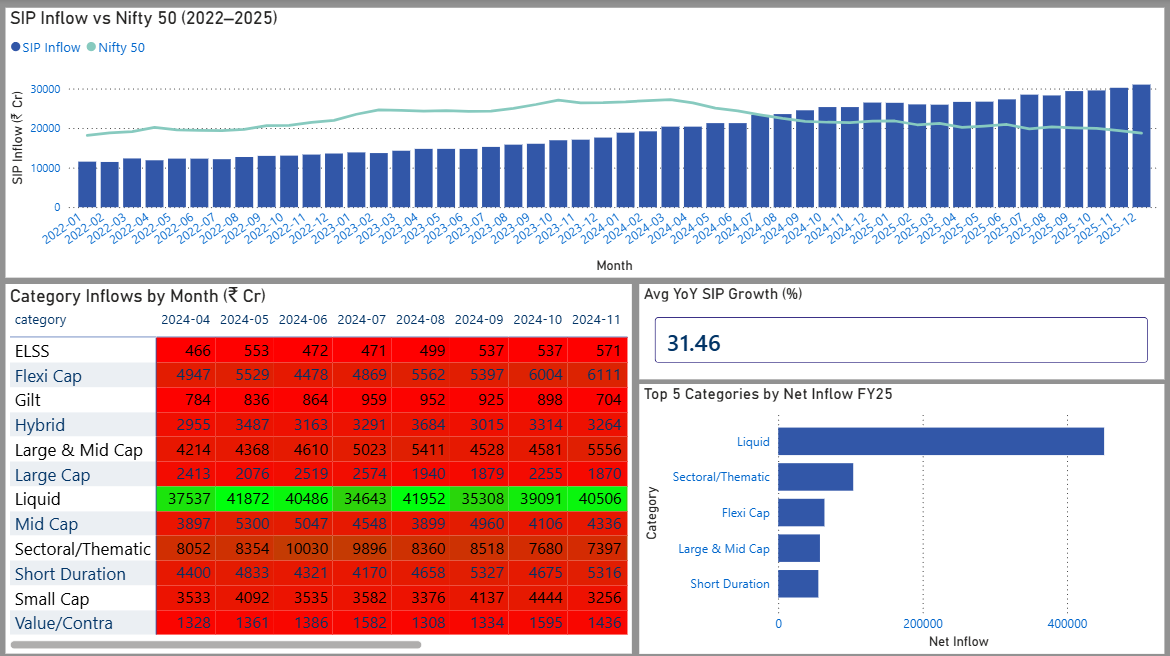

The page's visual inventory and layout, read from the dashboard file:
{"tool":"powerbi","page":{"name":"SIP & Market Trends","canvas":[1280,720],"ordinal":3},"visuals":[{"type":"lineStackedColumnComboChart","title":"SIP Inflow vs Nifty 50 (2022–2025)","fields":{"Y":["Sum(04_monthly_sip_inflows.sip_inflow_crore)"],"Category":["04_monthly_sip_inflows.month"],"Y2":["Avg(10_benchmark_indices.close_value)"]},"box":[8.2,9.5,1263.9,294],"z":0},{"type":"pivotTable","title":"Category Inflows by Month (₹ Cr)","fields":{"Rows":["05_category_inflows.category"],"Values":["Sum(05_category_inflows.net_inflow_crore)"],"Columns":["05_category_inflows.month"]},"box":[8.2,310.9,683.1,403],"z":1000},{"type":"clusteredBarChart","title":"Top 5 Categories by Net Inflow FY25","fields":{"Category":["05_category_inflows.category"],"Y":["Sum(05_category_inflows.net_inflow_crore)"]},"box":[699.4,419.9,572.6,294.5],"z":2000},{"type":"cardVisual","title":"Avg YoY SIP Growth (%)","fields":{"Data":["Avg(04_monthly_sip_inflows.yoy_growth_pct)"]},"box":[700.8,310.9,571.3,104],"z":3000}]}

Visuals, with their boxes in screenshot pixels (x1, y1, x2, y2), scaled from the page's 1280x720 canvas onto the 1170x656 screenshot:
"SIP Inflow vs Nifty 50 (2022–2025)" lineStackedColumnComboChart: [7, 9, 1163, 277]
"Category Inflows by Month (₹ Cr)" pivotTable: [7, 283, 632, 650]
"Top 5 Categories by Net Inflow FY25" clusteredBarChart: [639, 383, 1163, 651]
"Avg YoY SIP Growth (%)" cardVisual: [641, 283, 1163, 378]
